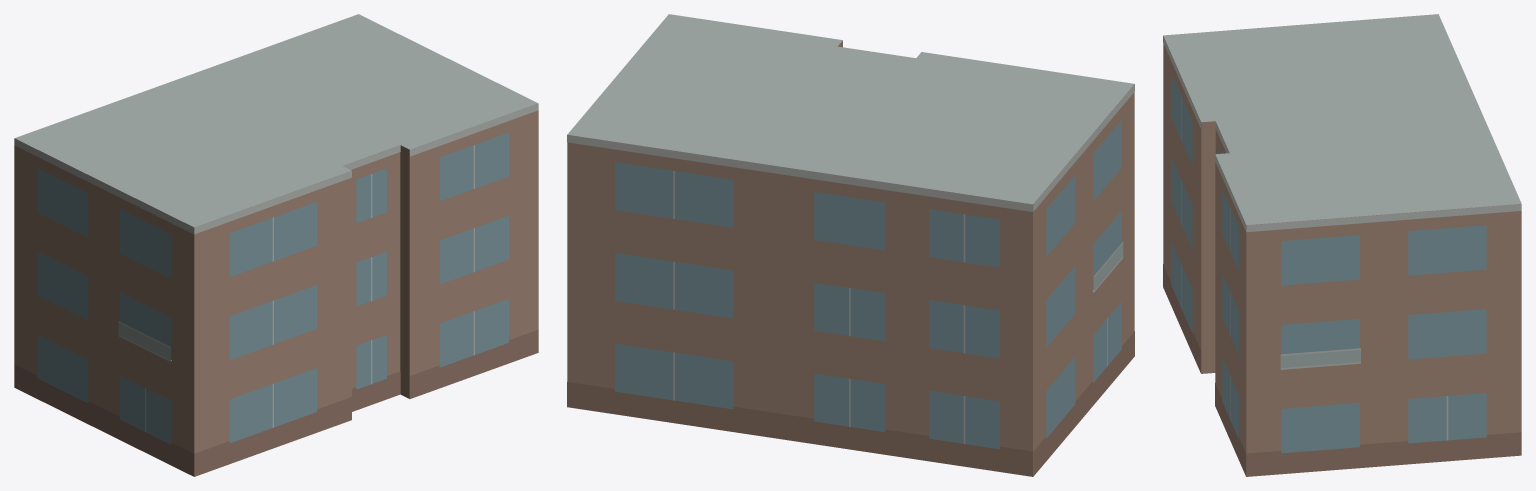
The model's file is survey-upis-32738030.glb.
3 renders of one model, left to right at view 1: azimuth 30°, elevation 25°; view 2: azimuth 150°, elevation 25°; view 3: azimuth 270°, elevation 25°, orthographic. The views are drawn at different scales.
Visible parts, largest first — view 1: survey-upis-32738030.tmp; view 2: survey-upis-32738030.tmp; view 3: survey-upis-32738030.tmp.
Part boxes in pixels (left/top/right/bottom): survey-upis-32738030.tmp: left=14, top=14, right=538, bottom=476; survey-upis-32738030.tmp: left=567, top=14, right=1134, bottom=476; survey-upis-32738030.tmp: left=1163, top=14, right=1521, bottom=476.
Bounding box in the file's own units: 15.7 × 8.72 × 11.27.
